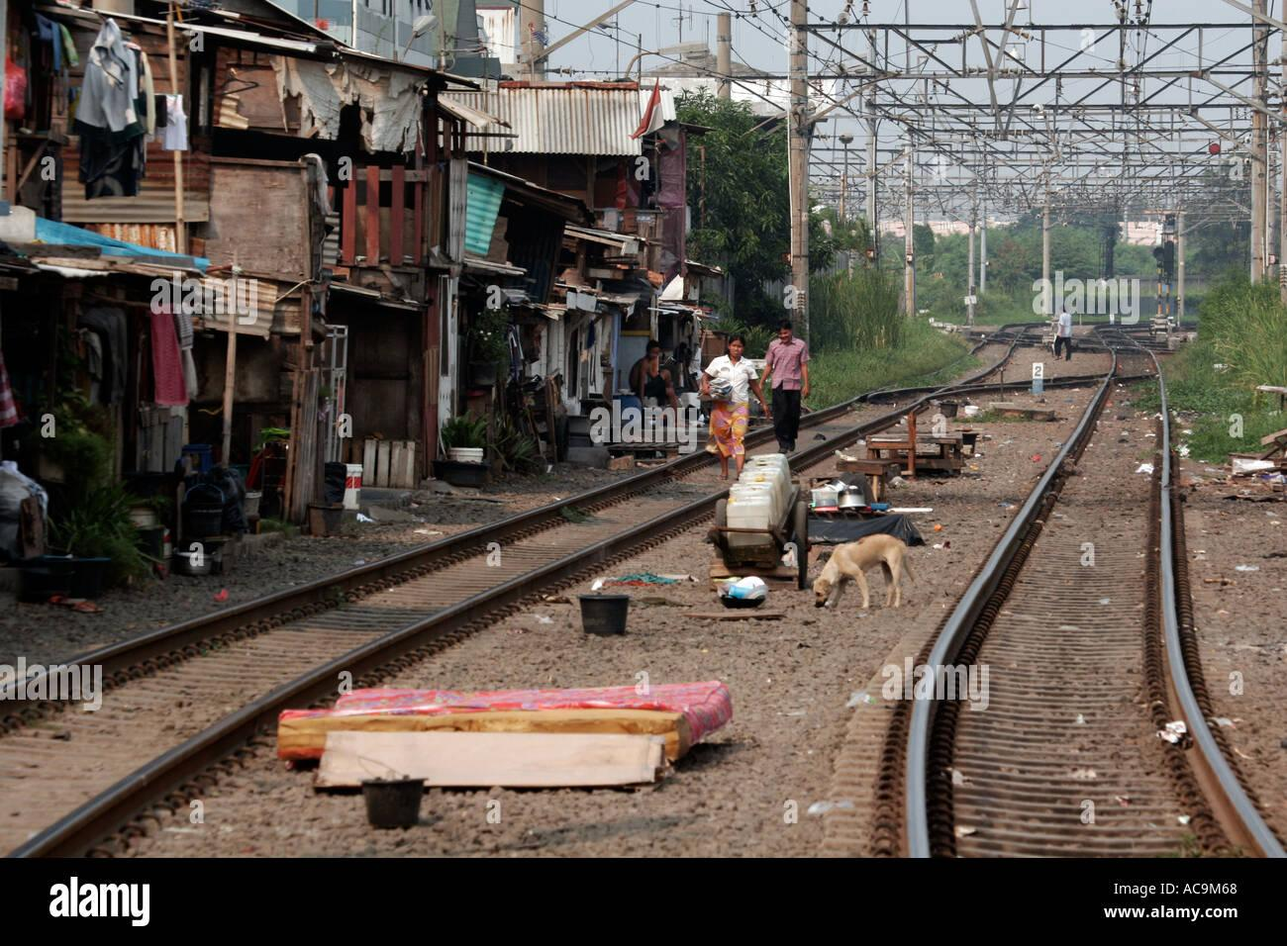mulch: (1140, 703, 1190, 758), (1133, 455, 1156, 479)
